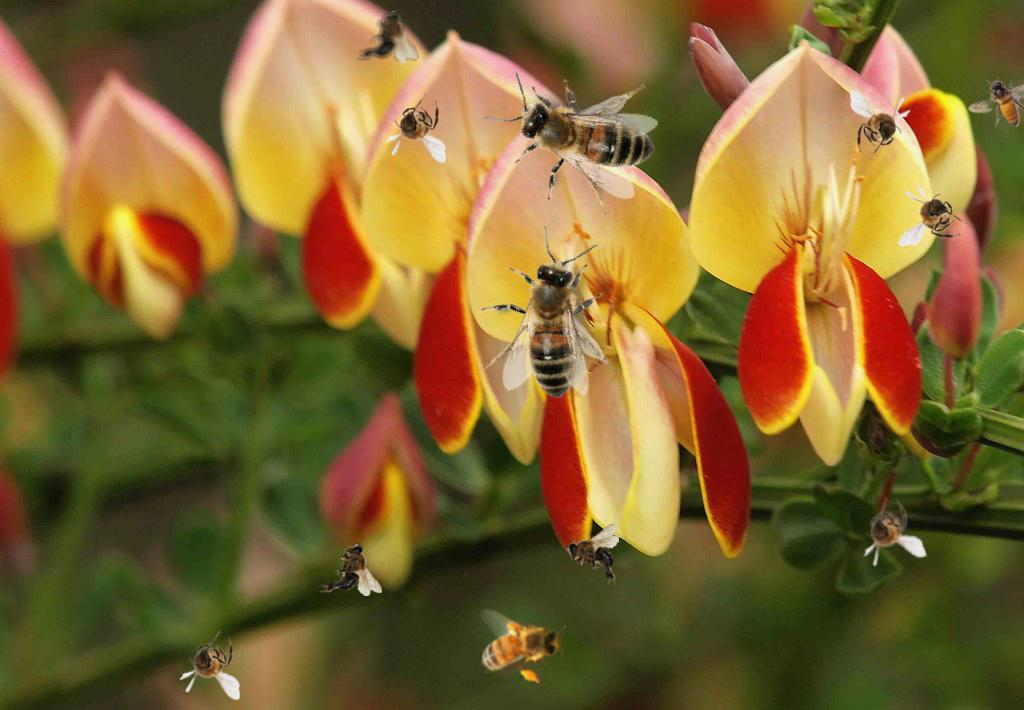Bee: (434, 206, 665, 436), (472, 31, 683, 245), (465, 603, 573, 692), (847, 489, 928, 577), (896, 183, 969, 247), (179, 630, 240, 700), (385, 93, 446, 163), (850, 90, 911, 160), (566, 524, 619, 586), (357, 10, 419, 63), (320, 543, 382, 596), (968, 77, 1024, 127)
